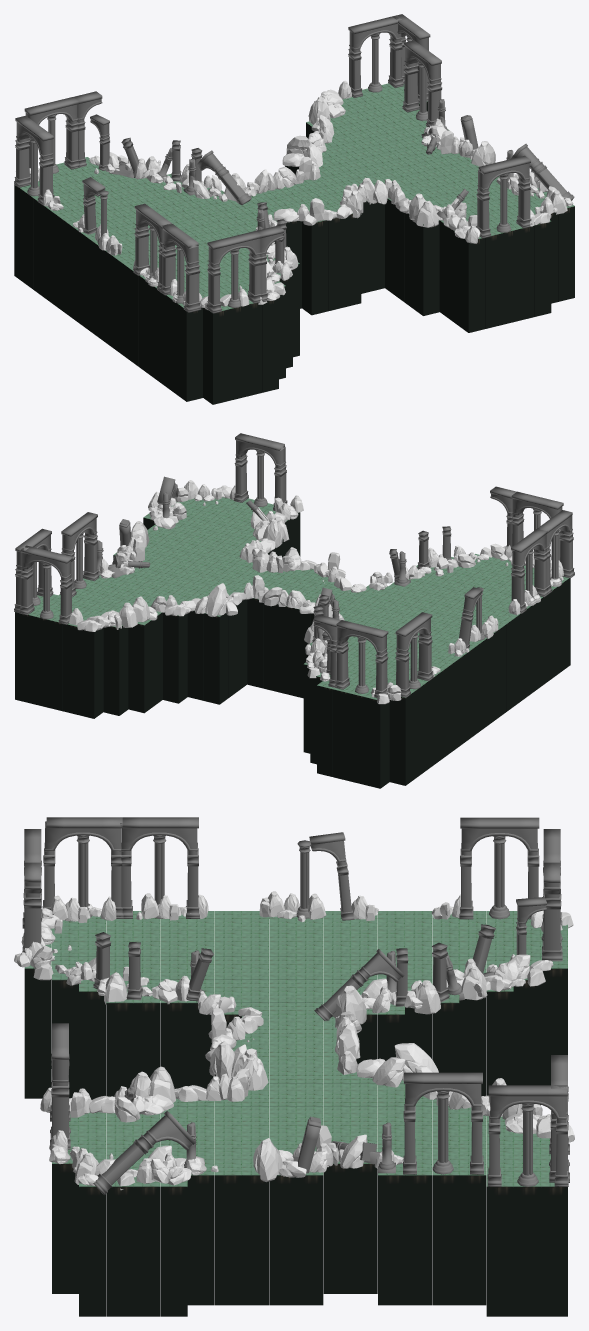
Rendered from Map_05.fbx.
3 renders of one model, top to bottom at view 1: azimuth 30°, elevation 25°; view 2: azimuth 150°, elevation 25°; view 3: azimuth 270°, elevation 25°, orthographic. The views are drawn at different scales.
Visible parts, largest first — view 1: Sea_Temple_Map_05, Sea_Temple_Map_05.002, Sea_Temple_Map_05.001; view 2: Sea_Temple_Map_05, Sea_Temple_Map_05.002, Sea_Temple_Map_05.001; view 3: Sea_Temple_Map_05, Sea_Temple_Map_05.002, Sea_Temple_Map_05.001.
Part boxes in pixels (x1,y1,x2,y2): Sea_Temple_Map_05: (14, 83, 574, 404); Sea_Temple_Map_05.002: (14, 14, 574, 313); Sea_Temple_Map_05.001: (29, 80, 573, 309); Sea_Temple_Map_05: (15, 497, 570, 788); Sea_Temple_Map_05.002: (14, 433, 574, 697); Sea_Temple_Map_05.001: (69, 480, 563, 704); Sea_Temple_Map_05: (24, 911, 567, 1316); Sea_Temple_Map_05.002: (22, 817, 569, 1194); Sea_Temple_Map_05.001: (14, 891, 574, 1190).
Size of the model in its own units: 9793 by 3639 by 8259.
